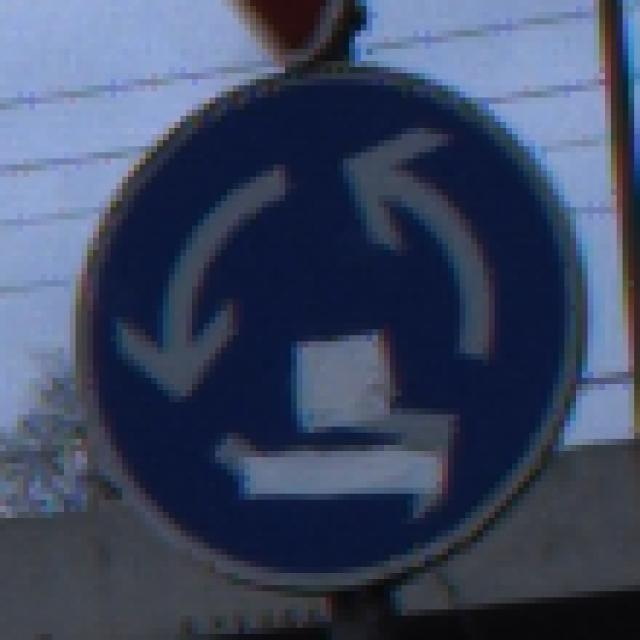roundabout: (69, 55, 591, 598)
